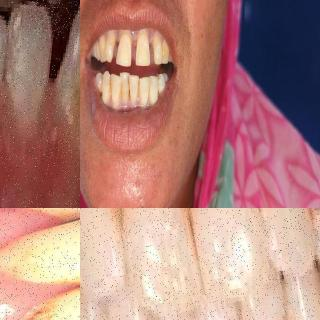Gum Swelling: (0, 208, 60, 280), (0, 277, 74, 320)
cavities: (0, 294, 70, 320)
maligned: (110, 74, 122, 110), (128, 72, 140, 107), (104, 30, 116, 64), (119, 72, 130, 106)
stains: (125, 77, 133, 104), (135, 80, 143, 104), (107, 75, 113, 99), (118, 82, 124, 103)
